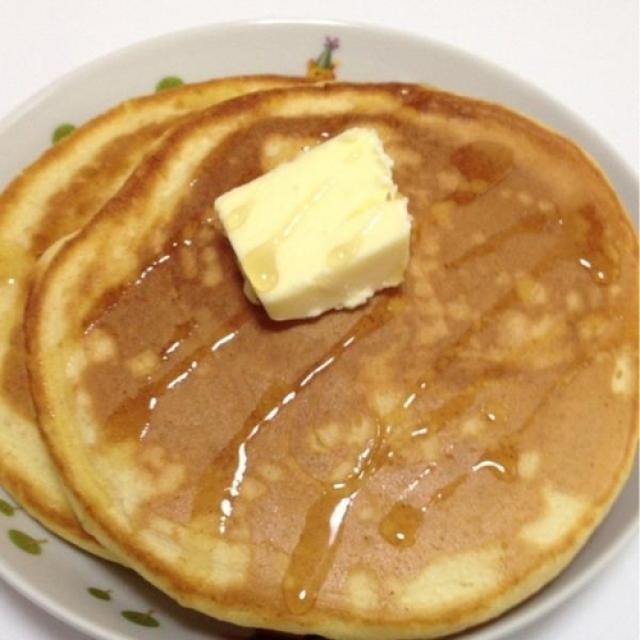蛋糕甜品: (8, 23, 627, 629)
